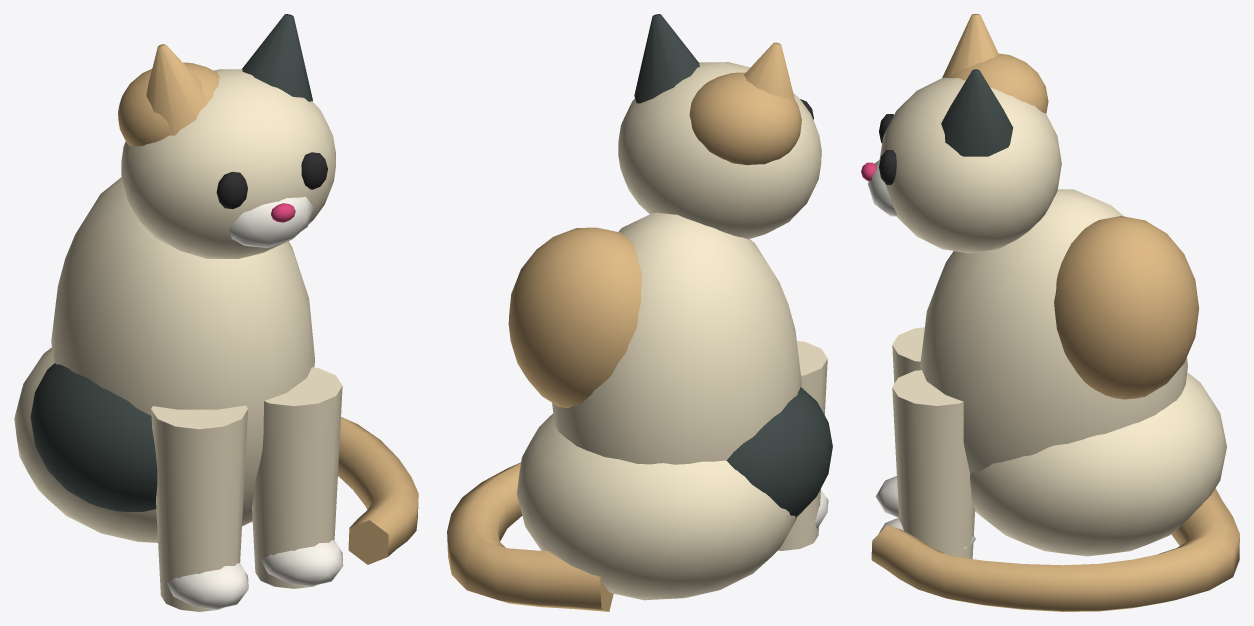
Rendered from prop_cat_sit.glb.
3 renders of one model, left to right at view 1: azimuth 30°, elevation 25°; view 2: azimuth 150°, elevation 25°; view 3: azimuth 270°, elevation 25°, orthographic. The views are drawn at different scales.
Parts seen in each view (by area): view 1: prop_cat_sit; view 2: prop_cat_sit; view 3: prop_cat_sit.
Boxes of the visible parts, x1,y1,x2,y2 form: prop_cat_sit: (14, 14, 418, 611); prop_cat_sit: (447, 14, 832, 611); prop_cat_sit: (861, 14, 1239, 611).
Size of the model in its own units: 0.3273 by 0.4919 by 0.3395.
